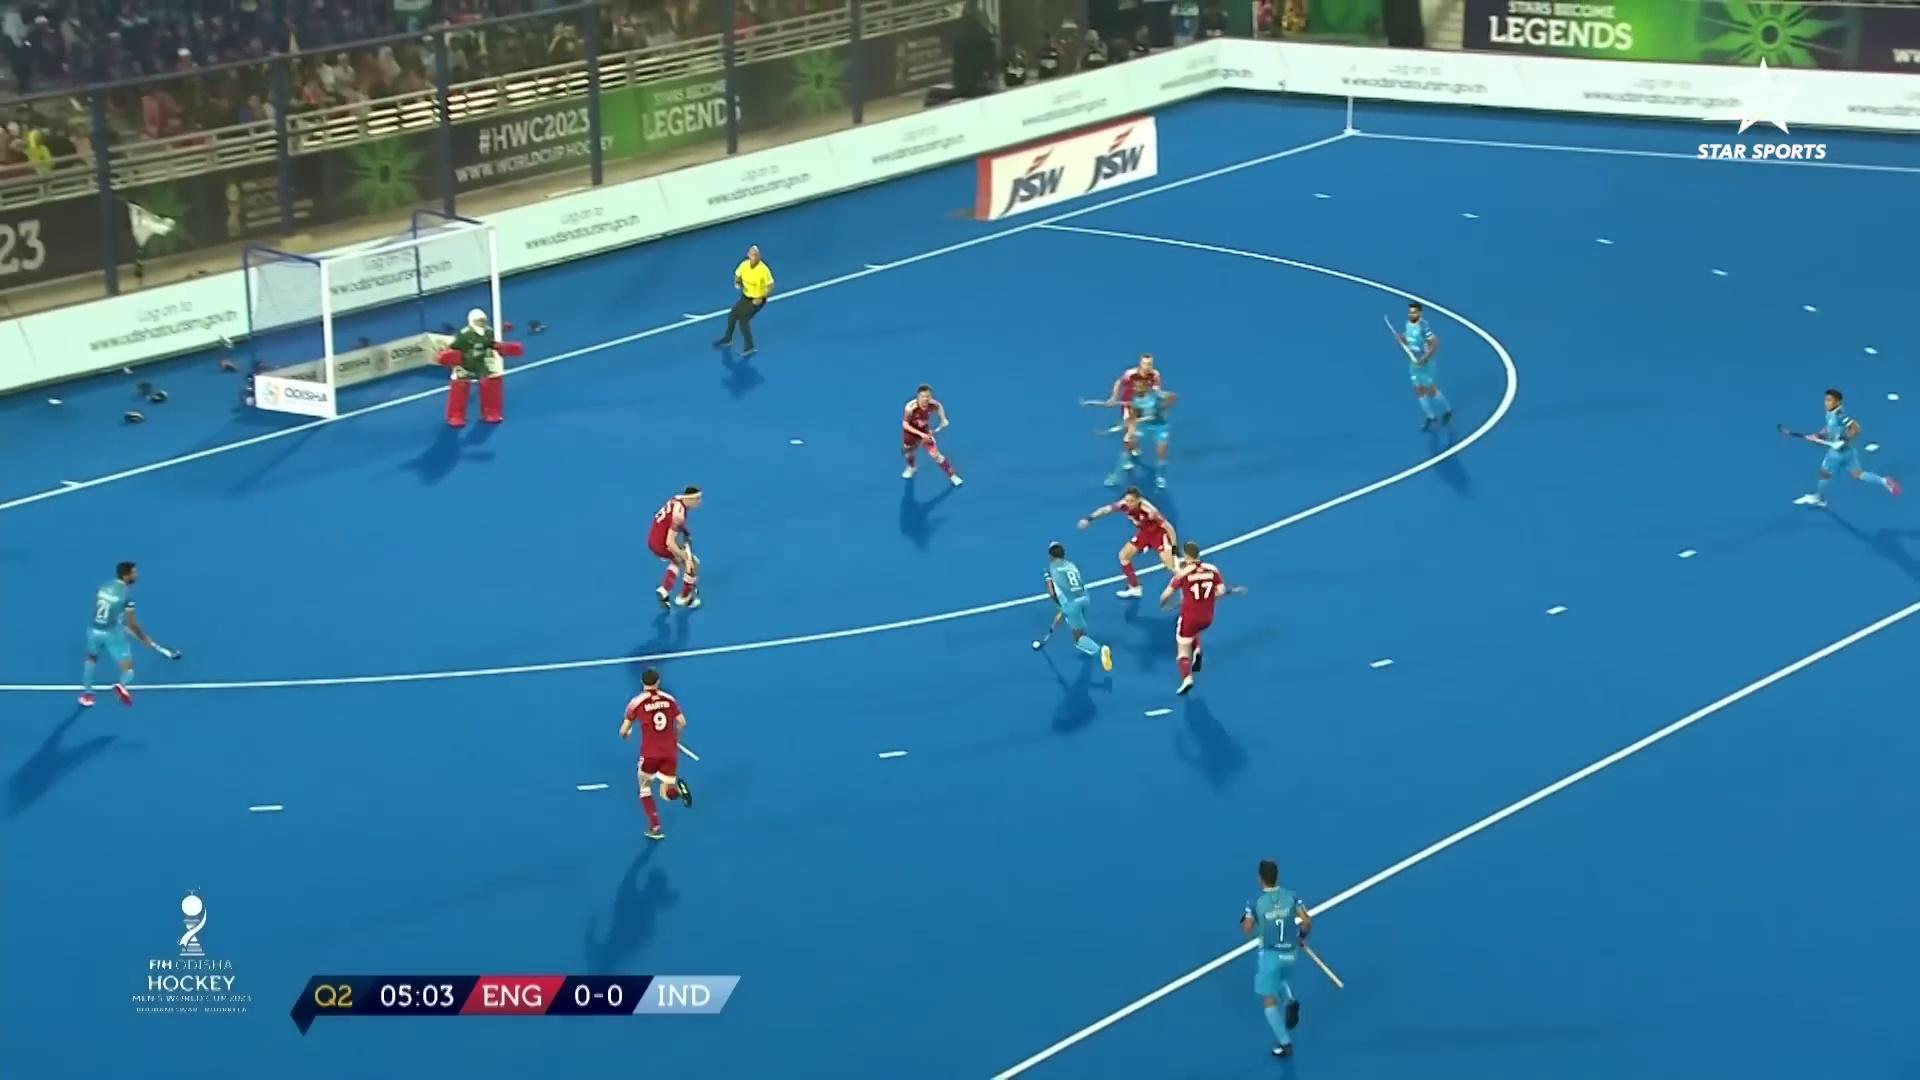ball: (1026, 629, 1054, 661)
